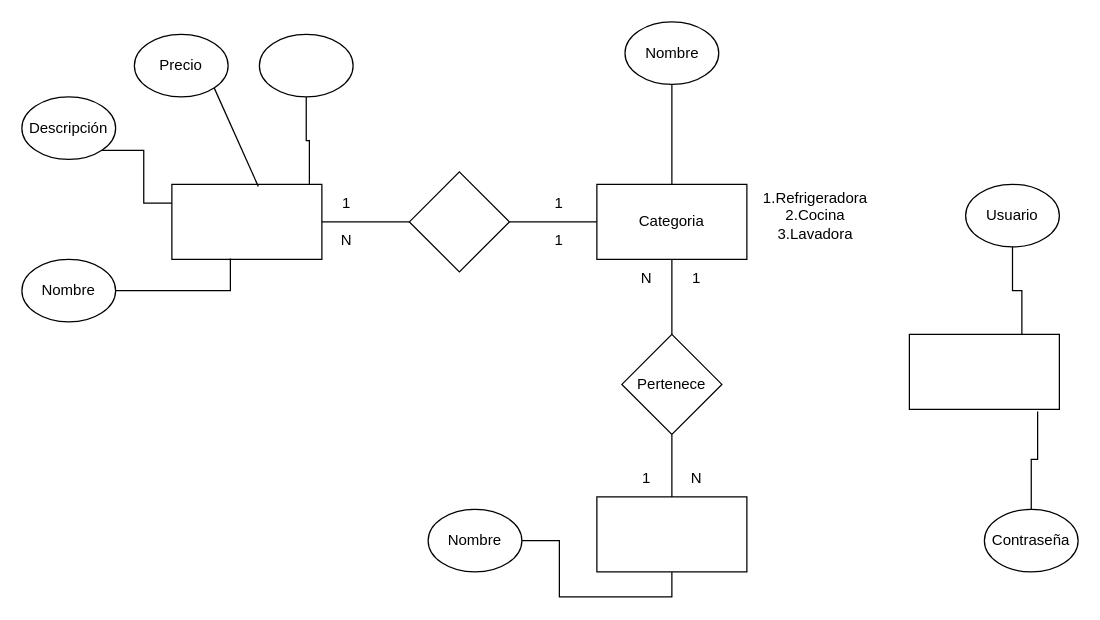
This 1100x620 diagram has some shape labels left out. Here are the shapes that lost their labels. From the top down, the centre of each, then its label:
At (305,65): "Img".
At (246,221): "Repuesto".
At (458,221): "Tiene".
At (983,371): "UsuariosAdmin".
At (671,534): "Marcas".
